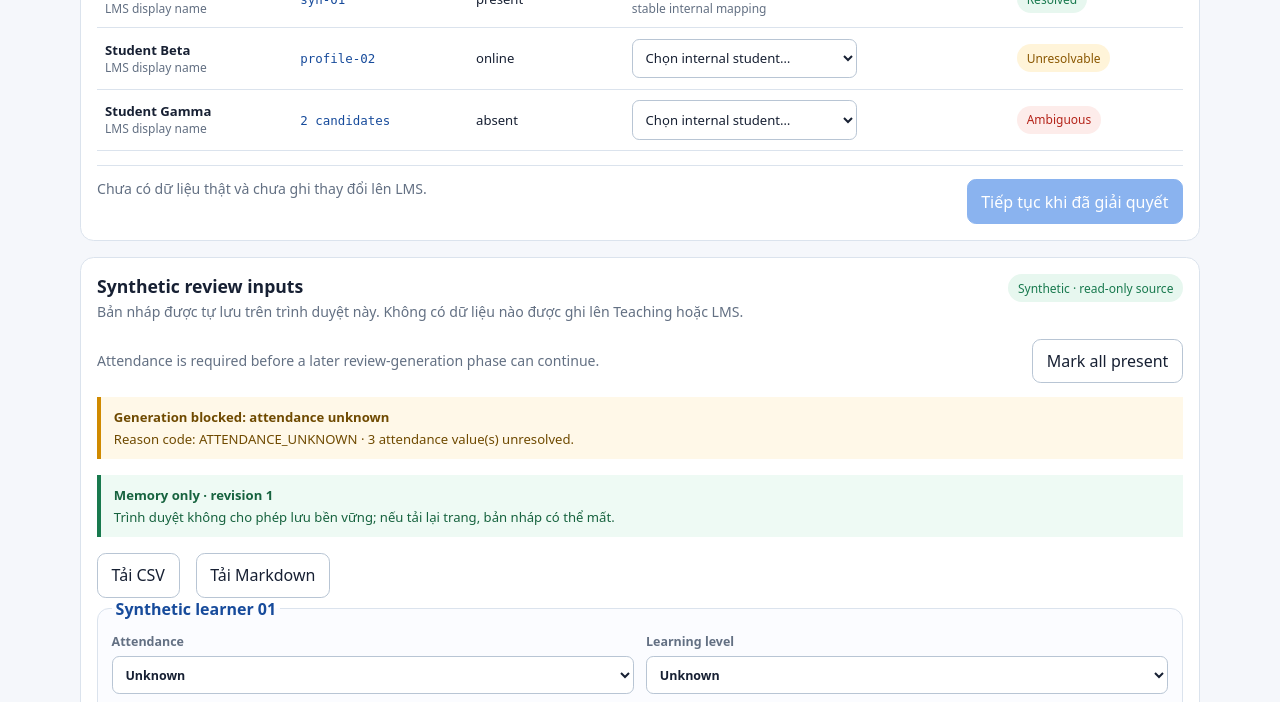
Test: Synthetic review inputs › marks every learner present without requiring levels or notes
(page scrolled)
Click the button "Mark all present".
click(1108, 361)  # box [1032,338,1183,383]
(page scrolled)
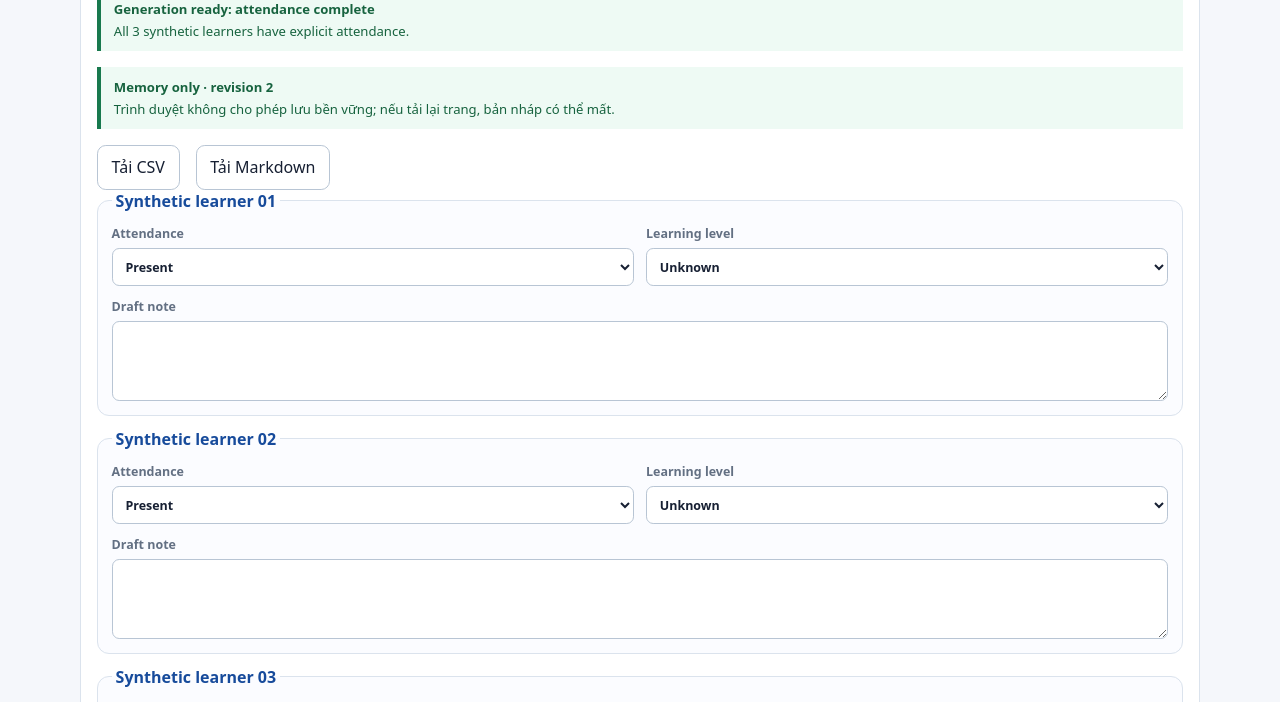
Result: the dropdown labelled " attendance" below "Synthetic learner 01" shows "Present" at [112,248,634,286]
Result: the dropdown labelled " attendance" below "Synthetic learner 02" shows "Present" at [112,486,634,524]
Result: the text "Generation ready: attendance complete" is shown at [114,0,375,18]
